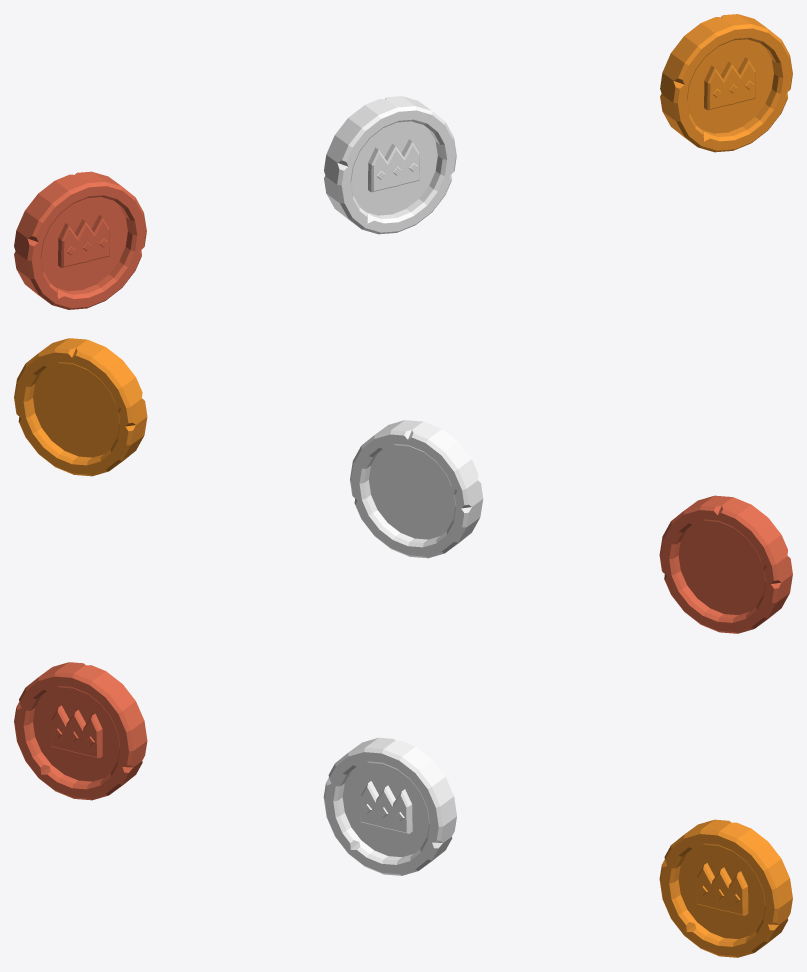
The model's file is AllCoins.fbx.
3 views of the same model, one above another, from view 1: azimuth 30°, elevation 25°; view 2: azimuth 150°, elevation 25°; view 3: azimuth 330°, elevation 25° (orthographic).
Visible parts, largest first — view 1: Cylinder.002, Cylinder.003, Cylinder; view 2: Cylinder, Cylinder.003, Cylinder.002; view 3: Cylinder, Cylinder.003, Cylinder.002.
Boxes of the visible parts, x1,y1,x2,y2 form: Cylinder.002: [324, 96, 456, 234]; Cylinder.003: [14, 171, 146, 309]; Cylinder: [660, 14, 792, 152]; Cylinder: [14, 338, 147, 476]; Cylinder.003: [659, 495, 792, 633]; Cylinder.002: [350, 420, 483, 558]; Cylinder: [659, 819, 792, 957]; Cylinder.003: [14, 662, 147, 800]; Cylinder.002: [323, 737, 456, 875].
Size of the model in its own units: 919 by 144 by 36.08.
